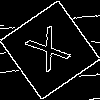X: (24, 25, 79, 81)
